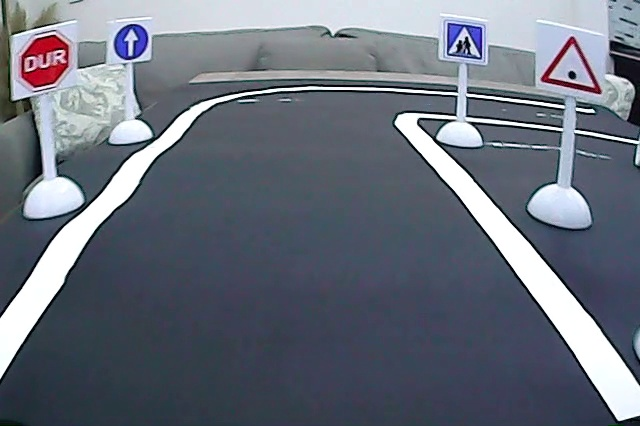green light: (539, 32, 605, 100)
school crossing: (441, 18, 487, 65)
stop sign: (16, 29, 76, 95)
